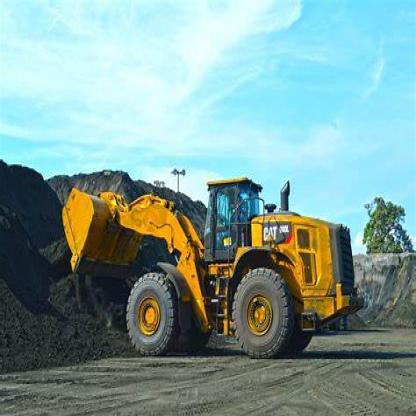bull_dozer/loader/grader: (47, 171, 367, 375)
